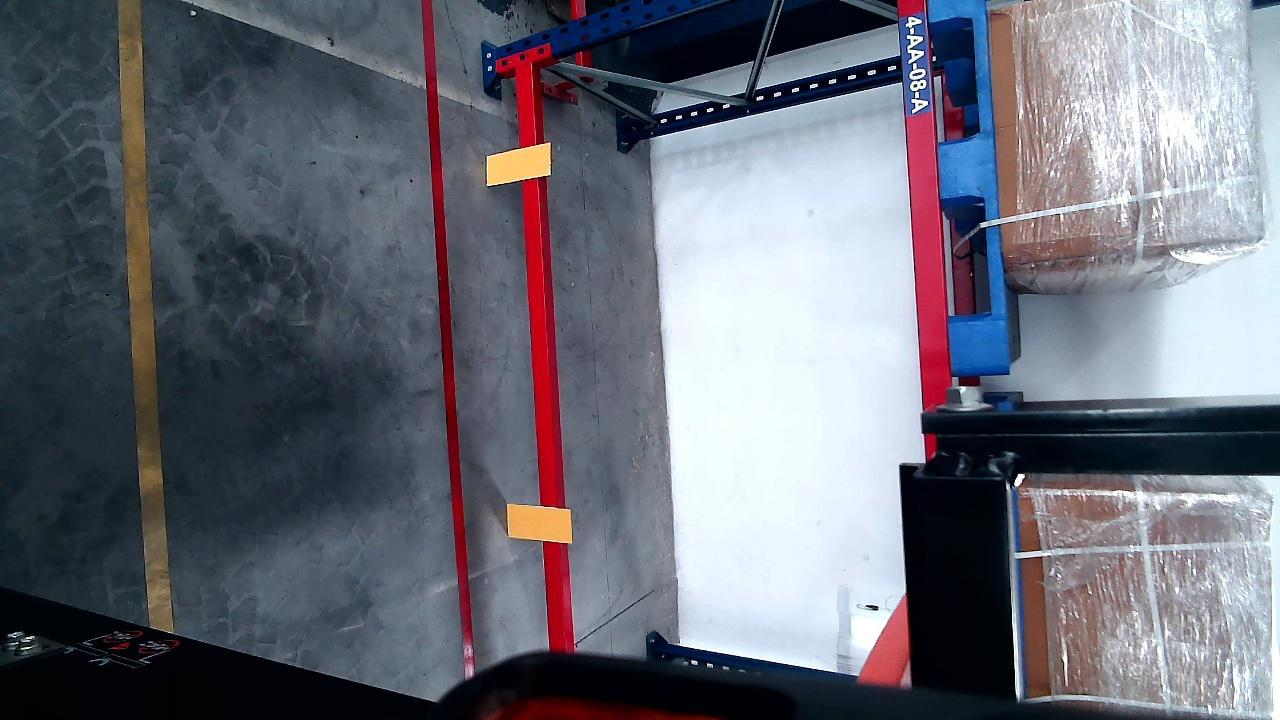red_line: (415, 1, 477, 675)
yellow_line: (112, 0, 174, 633)
